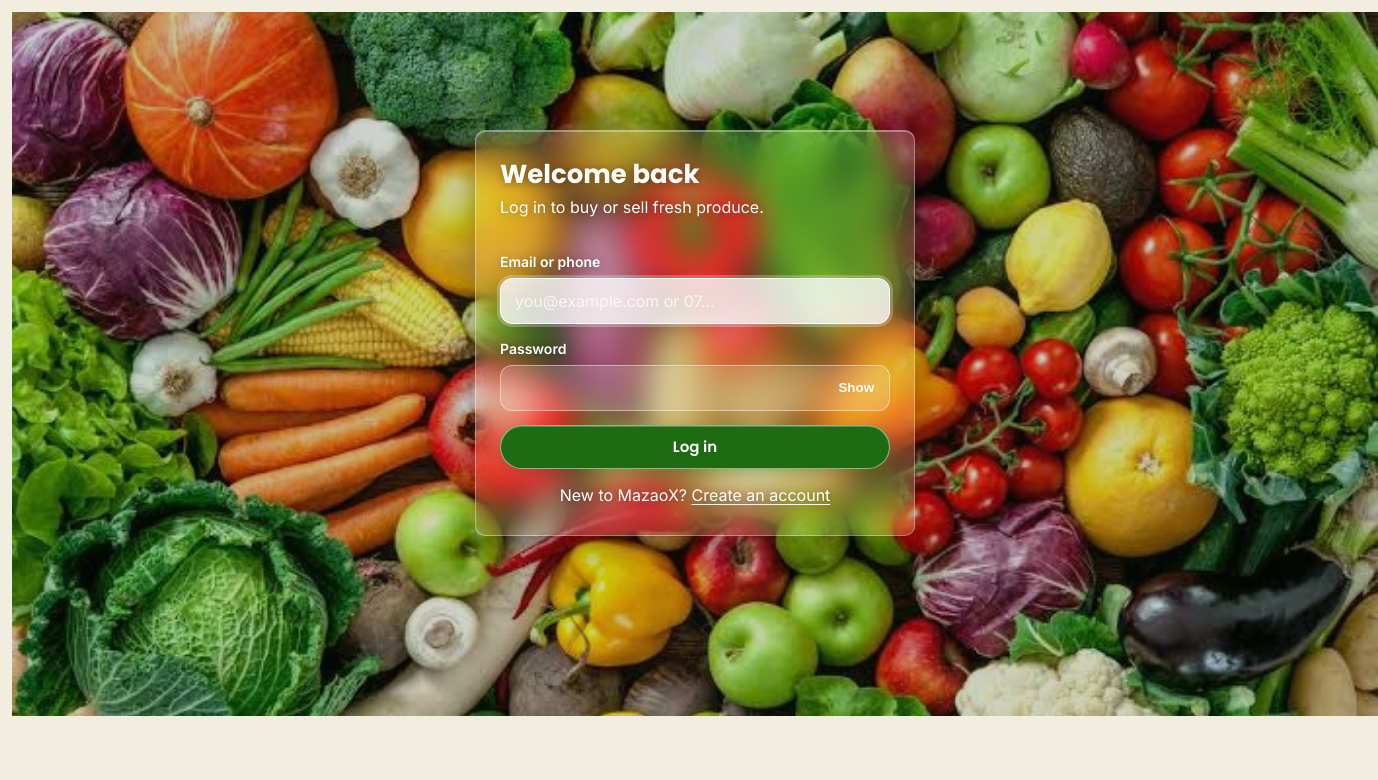
auth pages › login success leaves the page
Type "a@example.test" into the field labelled "Email or phone" at (695, 301), box [500, 278, 890, 324]
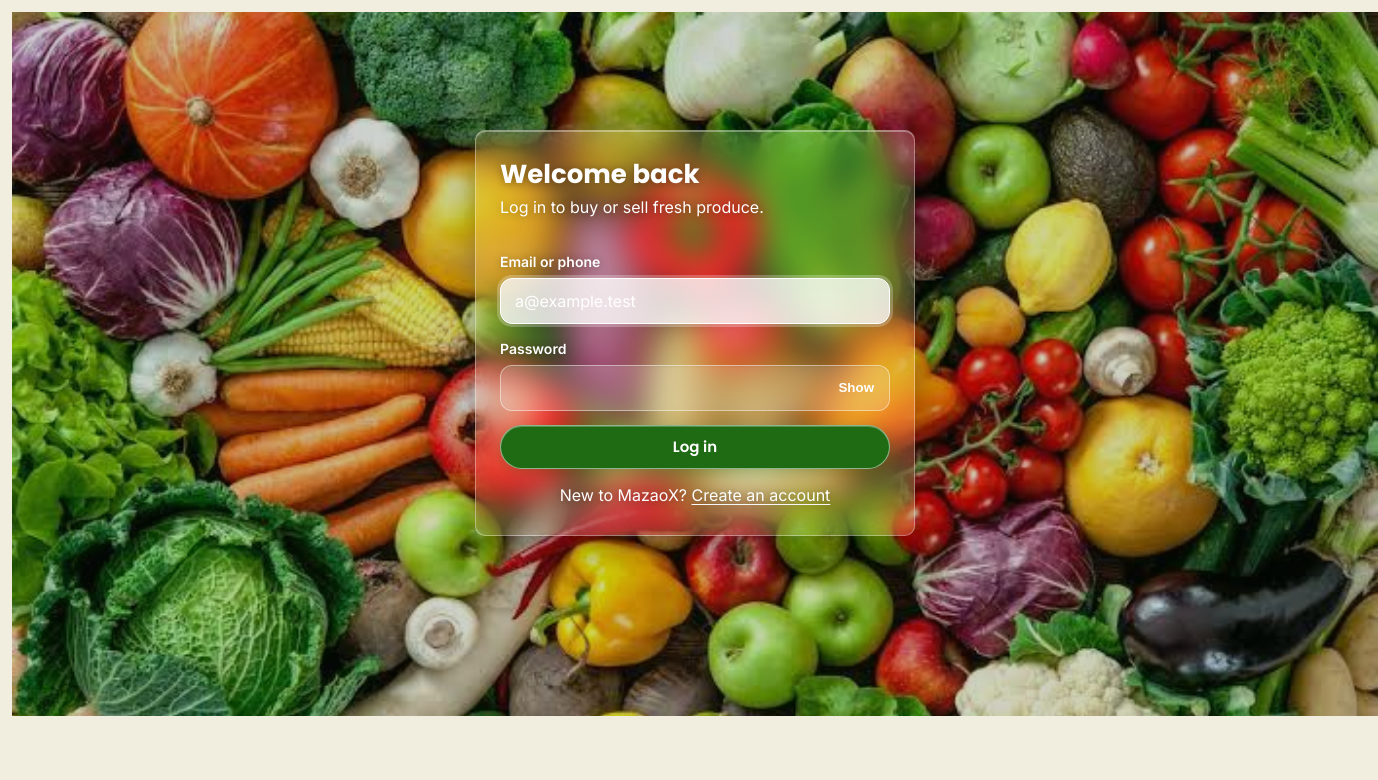
Type "Demo-Pass-12345" into the password field labelled "Password" at (695, 388), box [500, 365, 890, 411]
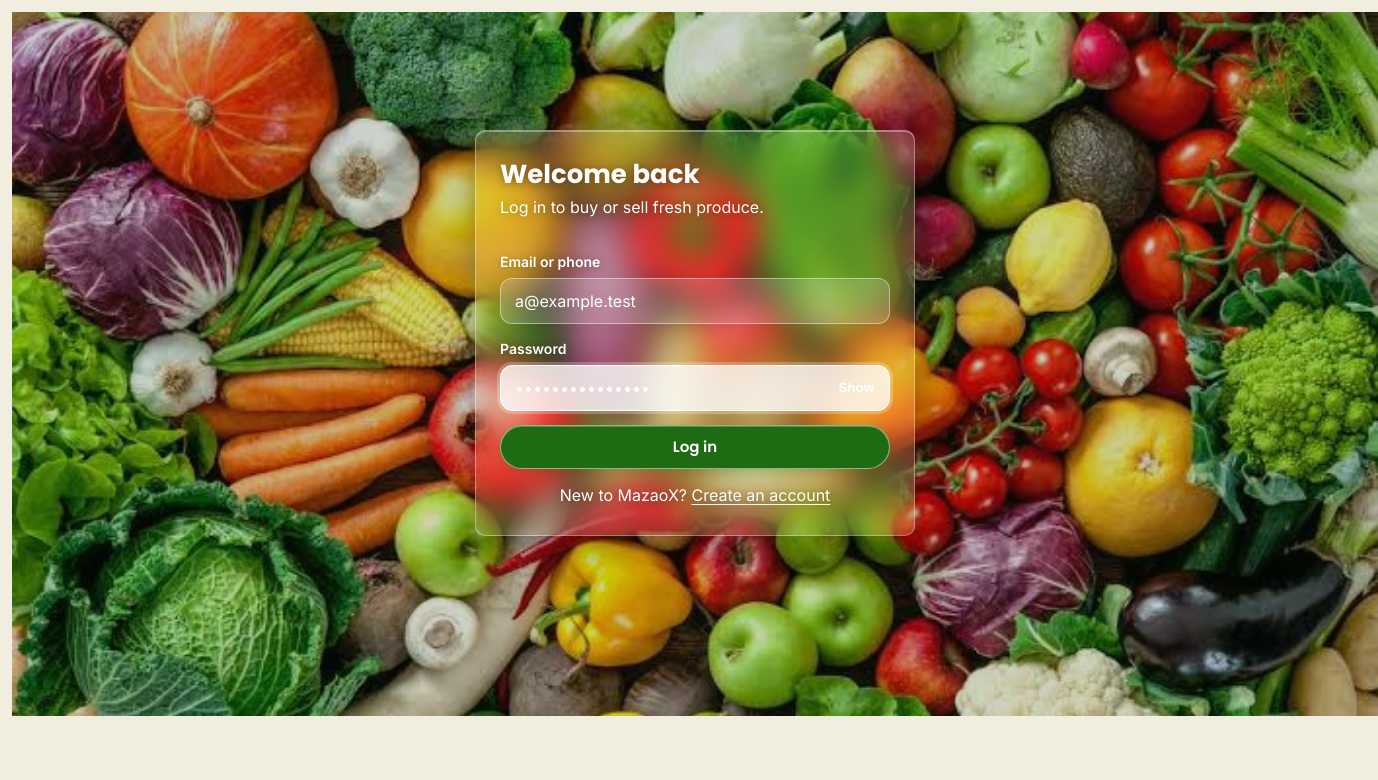
Click the button "Log in" at (695, 447), box [500, 425, 890, 469]
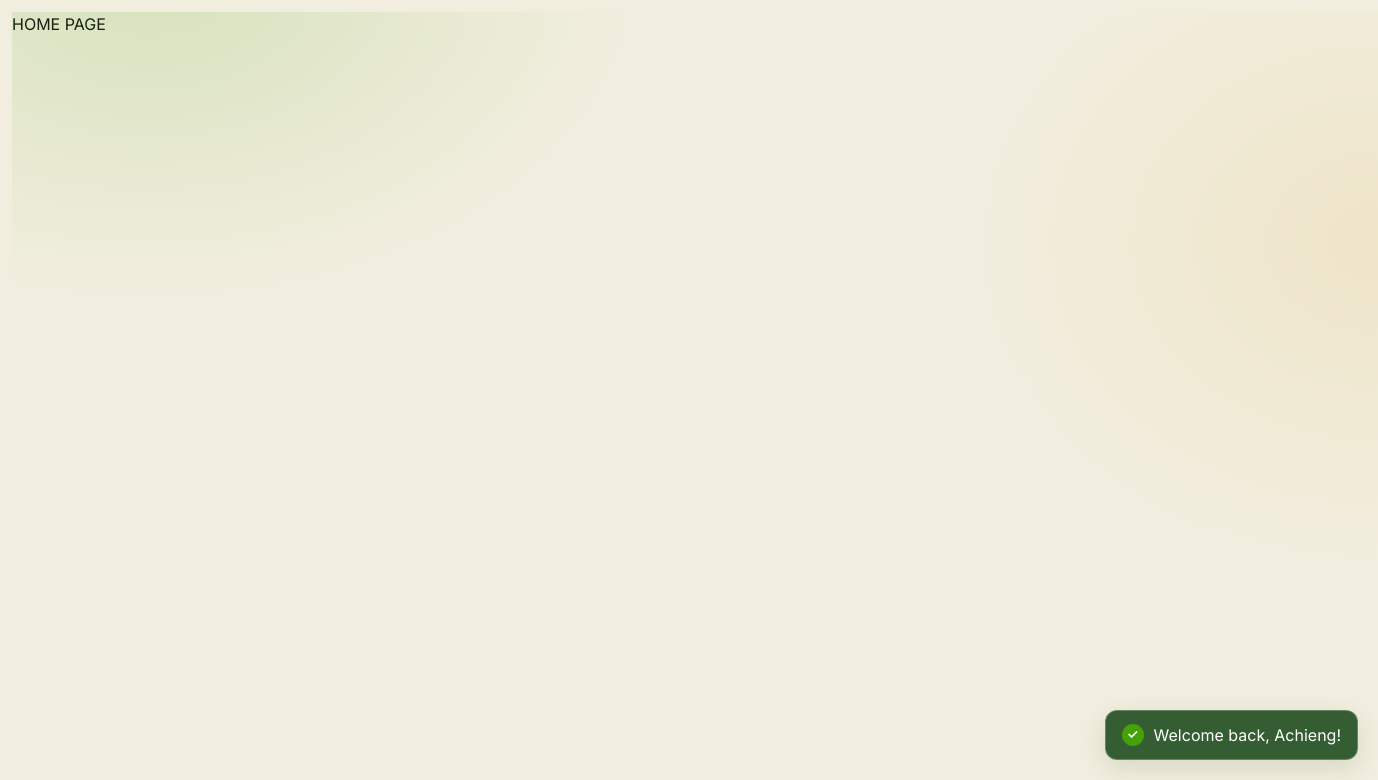
Check: the text "HOME PAGE" is shown, box [12, 14, 106, 34]
